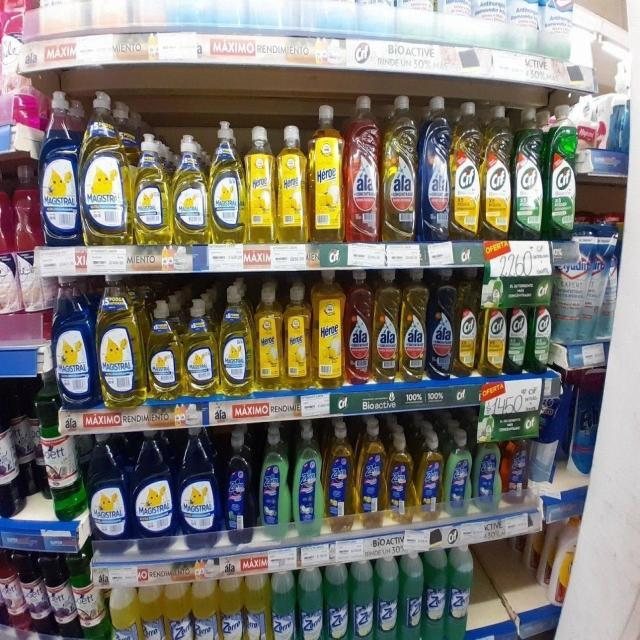ala_conc_amarillo: (382, 94, 418, 242), (400, 268, 427, 382), (373, 267, 399, 383)
ala_conc_azul: (419, 94, 450, 242), (428, 268, 454, 381)
ala_conc_rojo: (345, 93, 380, 244), (345, 268, 372, 385)
cif_conc_bot_amarilla: (451, 100, 481, 242), (482, 104, 512, 240), (455, 267, 479, 377), (481, 274, 506, 376)
cif_conc_botella_verde: (513, 106, 544, 240), (546, 105, 576, 240), (530, 274, 551, 373), (507, 282, 529, 374)
magistral_con_amarillo: (81, 89, 130, 246), (98, 284, 142, 408), (133, 131, 171, 245), (210, 119, 244, 244), (172, 133, 208, 245), (220, 283, 253, 395), (146, 298, 182, 400), (183, 296, 218, 396), (255, 281, 282, 391)
magistral_con_azul: (40, 89, 79, 246), (55, 277, 95, 410), (131, 428, 175, 540), (178, 426, 220, 536), (89, 433, 129, 542)
zorro: (292, 419, 324, 539), (258, 422, 290, 539), (223, 426, 255, 536), (326, 419, 356, 532), (357, 418, 386, 526), (387, 429, 415, 525), (416, 432, 444, 522), (445, 429, 472, 518), (474, 433, 502, 515), (350, 559, 374, 640)
